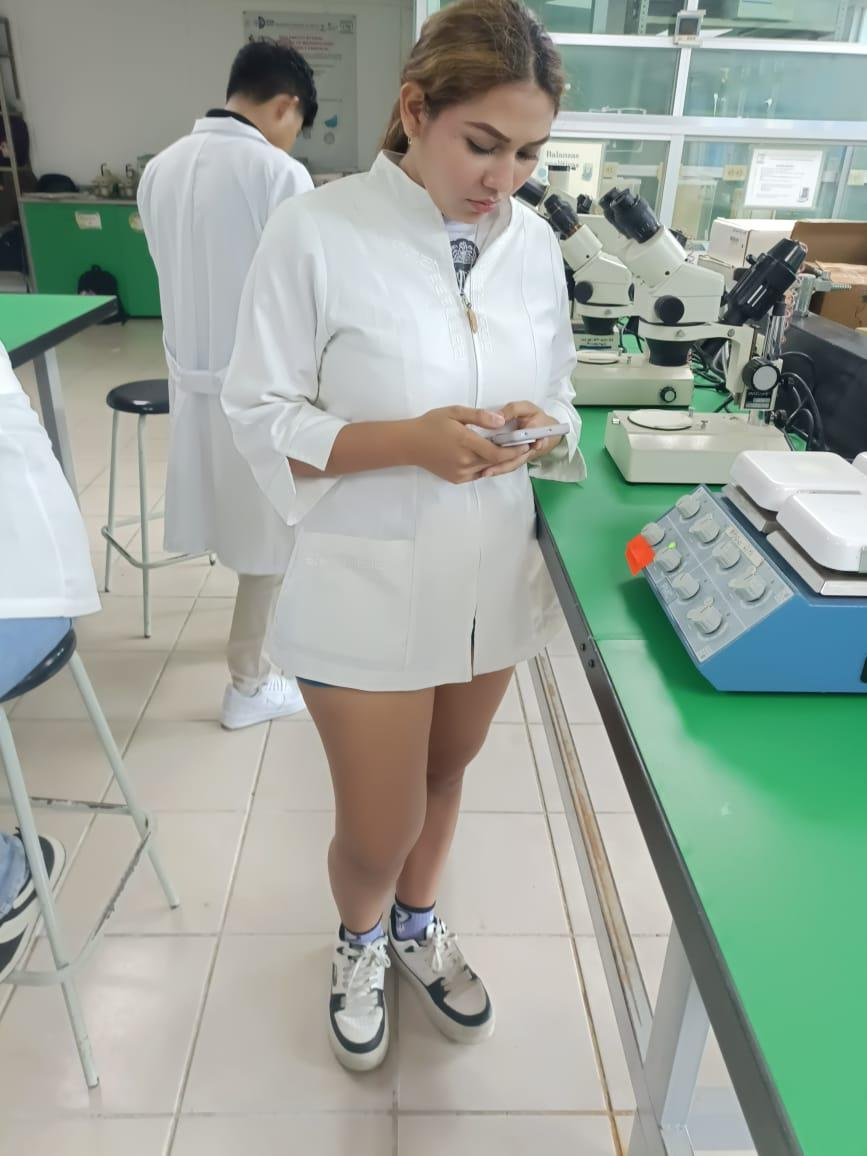Bata-Correcta: (222, 0, 580, 1070)
